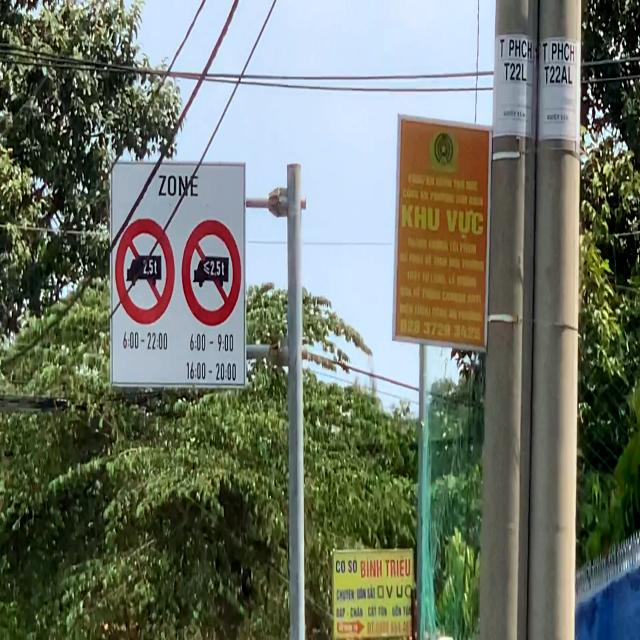P.106b: (112, 216, 175, 325), (181, 218, 241, 326)
